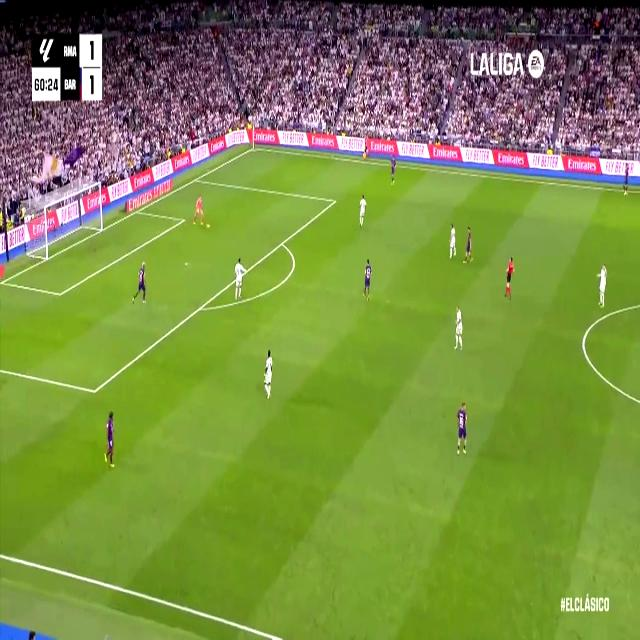bigarea_bottom_inner: (89, 378, 99, 403)
bigarea_top_inner: (331, 194, 337, 207)
bigarea_top_outter: (192, 171, 200, 185)
bottom_arc_area_intersection: (196, 297, 206, 317)
corner: (250, 143, 256, 152)
smallarea_bottom_inner: (56, 285, 64, 303)
smallarea_top_inner: (180, 214, 186, 224)
top_arc_area_intersection: (278, 235, 286, 250)
